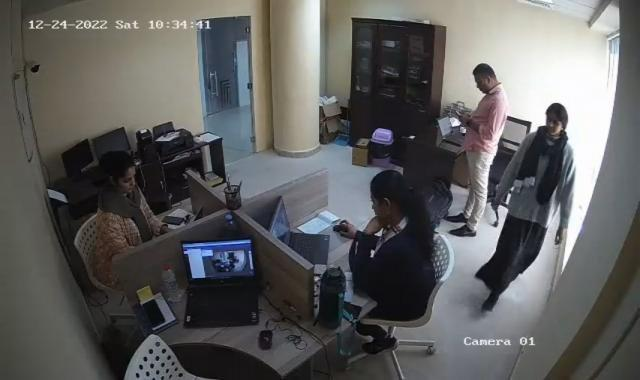no_apron: (358, 203, 394, 242), (337, 214, 359, 242), (449, 108, 477, 130), (552, 222, 570, 252)
no_gloves: (370, 168, 418, 224), (102, 151, 136, 194), (544, 104, 568, 140), (471, 63, 498, 94)
no_hairnet: (109, 158, 135, 192), (364, 189, 389, 221), (543, 114, 566, 140), (472, 70, 492, 98)
